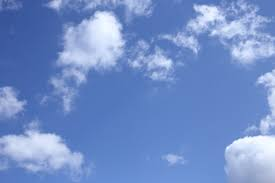sky: (2, 1, 272, 183)
